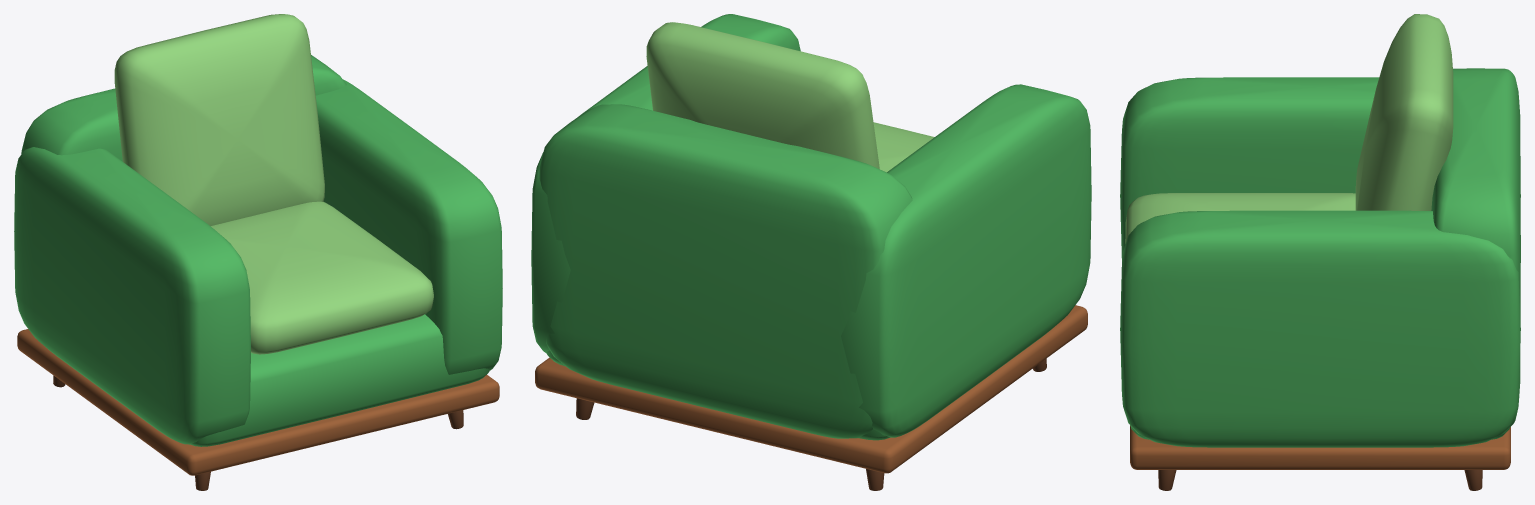
The model's file is poltrona_base_madeira_verde.glb.
The picture shows the model from 3 angles, left to right: view 1: azimuth 30°, elevation 25°; view 2: azimuth 150°, elevation 25°; view 3: azimuth 270°, elevation 25°; orthographic projection. The views are drawn at different scales.
Parts seen in each view (by area): view 1: poltrona_base_madeira_verde; view 2: poltrona_base_madeira_verde; view 3: poltrona_base_madeira_verde.
Boxes of the visible parts, x1,y1,x2,y2 form: poltrona_base_madeira_verde: [14, 14, 502, 490]; poltrona_base_madeira_verde: [531, 14, 1091, 490]; poltrona_base_madeira_verde: [1120, 14, 1520, 490].
Bounding box in the file's own units: 0.8 × 0.8131 × 0.8.
Materials: 1 (1 with a texture image).
